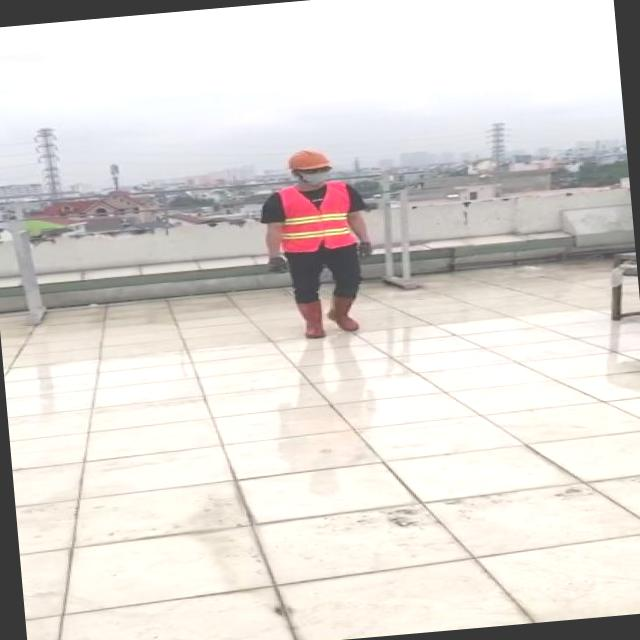boots: (324, 292, 362, 336), (295, 301, 327, 341)
helmet: (282, 146, 334, 173)
vest: (276, 180, 354, 250)
